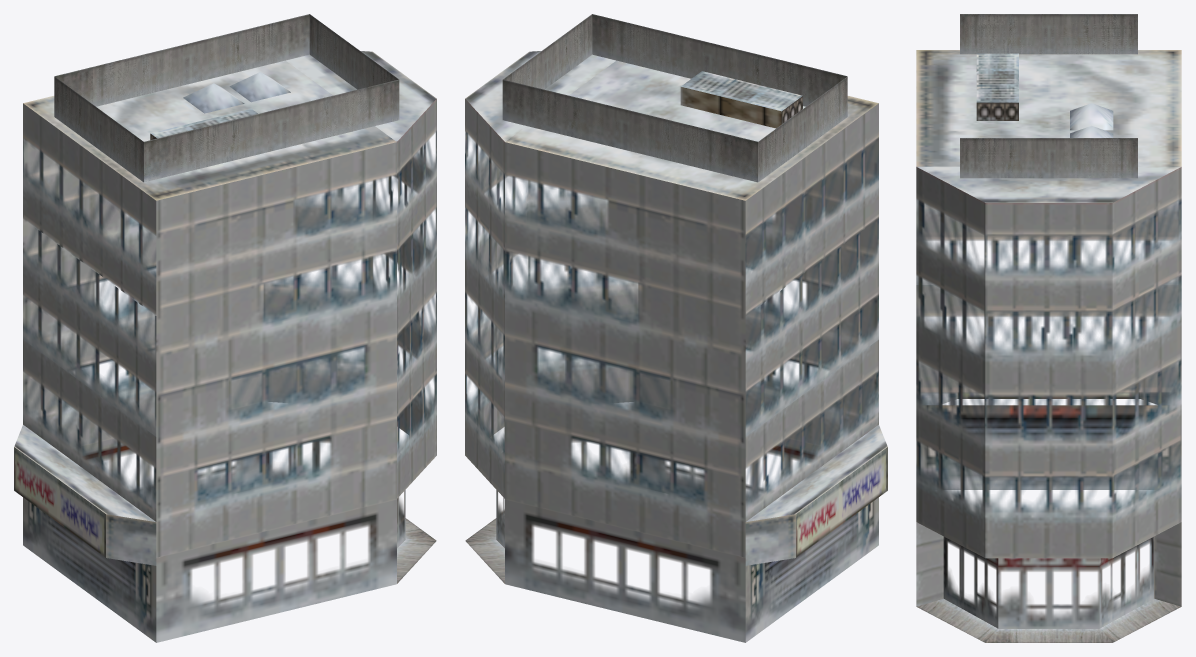
The model's file is Civilian - Civilian Building - N Office - Snow - CBNOffice_s.glb.
The picture shows the model from 3 angles, left to right: view 1: azimuth 30°, elevation 25°; view 2: azimuth 150°, elevation 25°; view 3: azimuth 270°, elevation 25°; orthographic projection.
Parts seen in each view (by area): view 1: CBNOFFICE_S; view 2: CBNOFFICE_S; view 3: CBNOFFICE_S.
Boxes of the visible parts, box(x1,y1,x2,y2) form: CBNOFFICE_S: box(14, 14, 436, 642); CBNOFFICE_S: box(465, 14, 887, 642); CBNOFFICE_S: box(916, 14, 1181, 642).
Bounding box in the file's own units: 52.26 × 69.96 × 35.
1 material, 1 textured.
